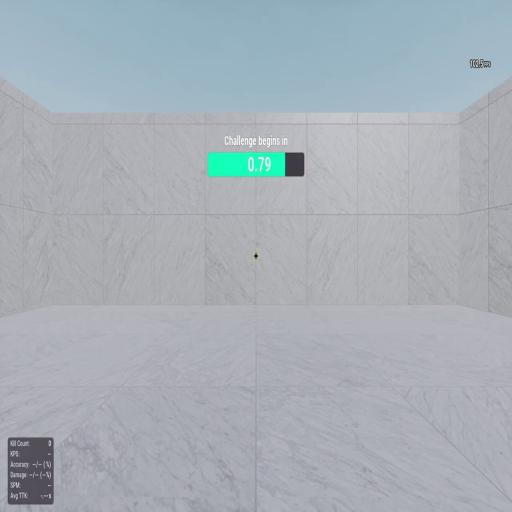Crosshair: (254, 252, 258, 260)
